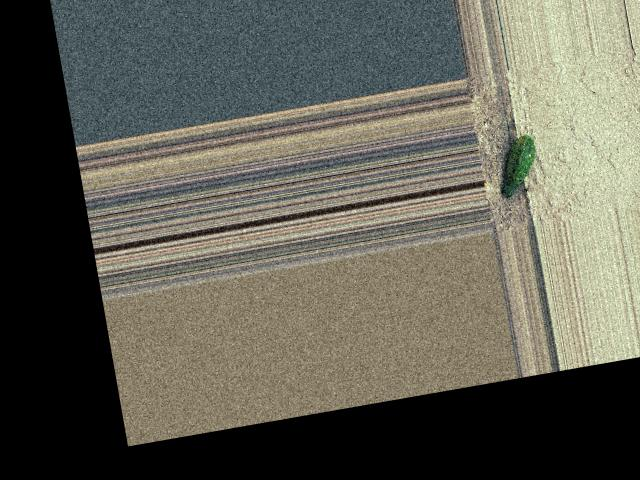cucumber: (493, 133, 543, 197)
